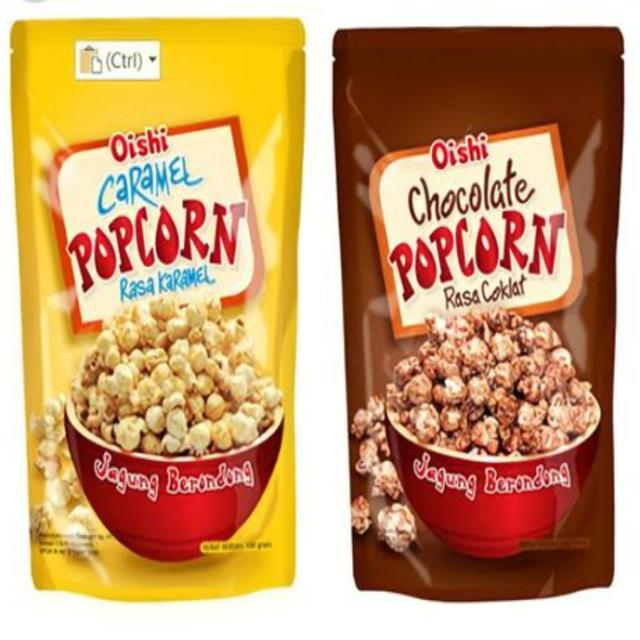KemasanPlastik: (7, 11, 303, 596), (327, 16, 617, 599)
